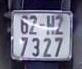2: (29, 15, 38, 35), (43, 37, 52, 57), (56, 15, 64, 36)
3: (32, 37, 41, 57)
6: (19, 14, 29, 34)
7: (54, 37, 63, 58), (20, 35, 28, 56)
H: (45, 14, 55, 36)
